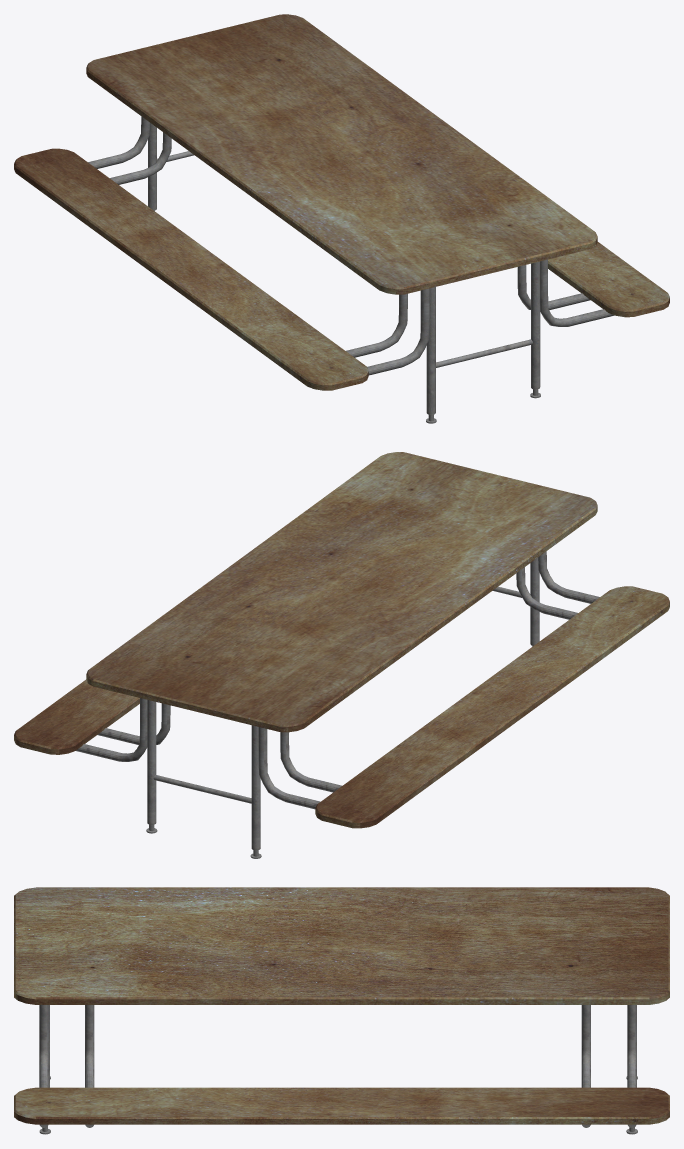
The model's file is LunchTable.fbx.
3 views of the same model, one above another, from view 1: azimuth 30°, elevation 25°; view 2: azimuth 150°, elevation 25°; view 3: azimuth 270°, elevation 25° (orthographic). The views are drawn at different scales.
Visible parts, largest first — view 1: polySurface16; view 2: polySurface16; view 3: polySurface16.
Part boxes in pixels (left/top/right/bottom): polySurface16: left=14, top=14, right=669, bottom=423; polySurface16: left=14, top=452, right=669, bottom=858; polySurface16: left=14, top=887, right=669, bottom=1134.
Bounding box in the file's own units: 43.61 × 17.86 × 65.24.
